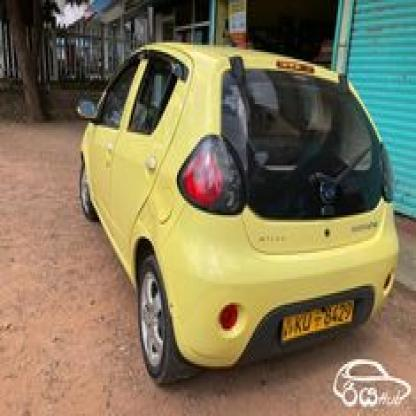car back: (74, 39, 401, 387)
number plate: (278, 298, 358, 346)
